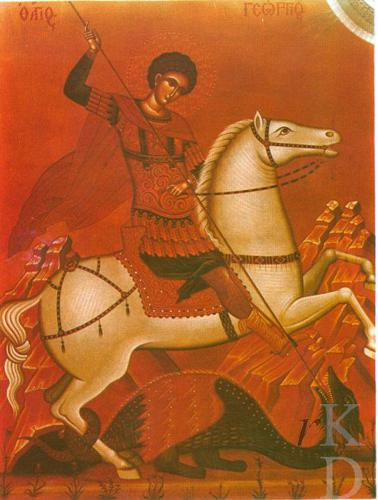dragon: (33, 368, 363, 477)
horse: (37, 119, 378, 371)
knight: (61, 22, 296, 354)
lance: (65, 1, 325, 391)
